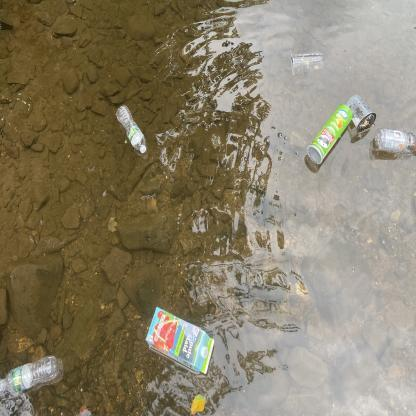trash: (142, 301, 221, 381), (300, 99, 360, 173), (0, 347, 67, 404), (110, 102, 150, 157), (368, 123, 416, 157), (344, 91, 380, 136), (286, 46, 326, 76)
